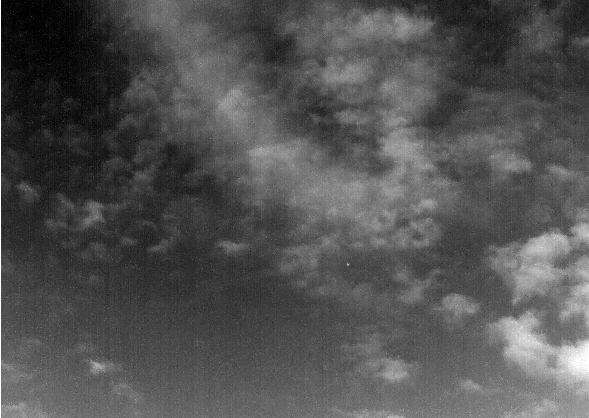dim target: (346, 262, 350, 267)
